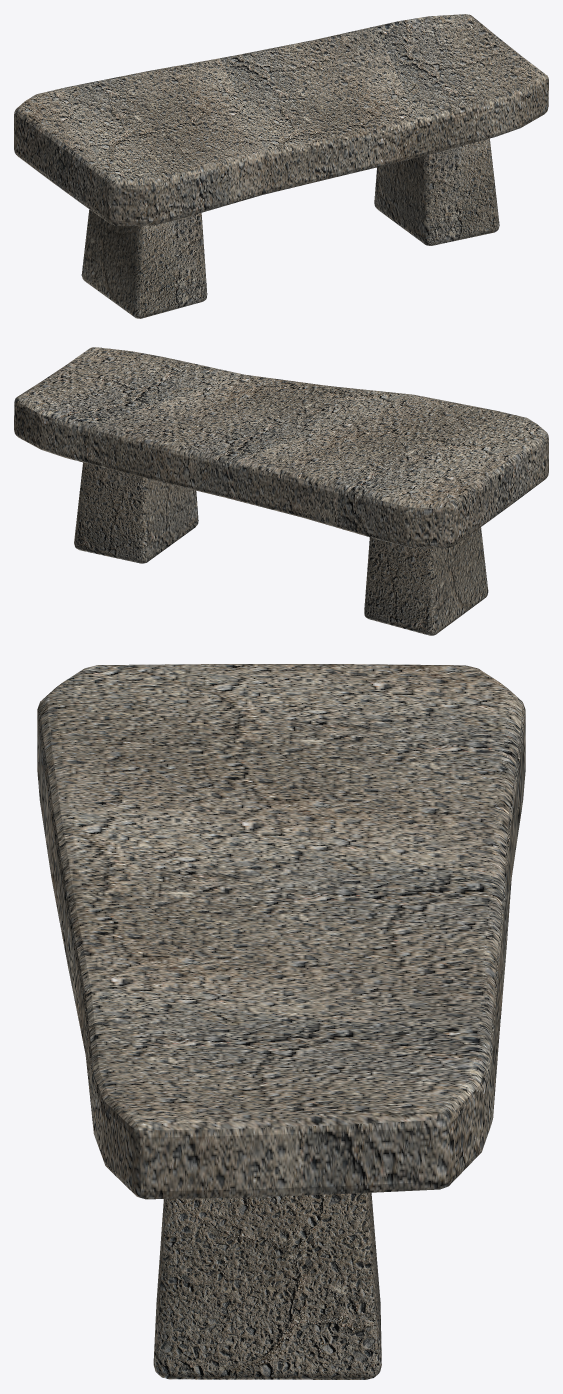
File: bench.fbx
3 views of the same model, one above another, from view 1: azimuth 30°, elevation 25°; view 2: azimuth 150°, elevation 25°; view 3: azimuth 270°, elevation 25° (orthographic). The views are drawn at different scales.
Visible parts, largest first — view 1: 立方体.001, 立方体.004; view 2: 立方体.001, 立方体.004; view 3: 立方体.001, 立方体.004.
Part boxes in pixels (box(x1,y1,x2,y2)): 立方体.001: box(14, 14, 548, 226); 立方体.004: box(81, 138, 499, 318); 立方体.001: box(14, 347, 548, 548); 立方体.004: box(74, 462, 488, 635); 立方体.001: box(37, 664, 525, 1199); 立方体.004: box(153, 1192, 381, 1379).
Bounding box in the file's own units: 85.94 × 30.16 × 40.42.
2 materials, 2 textured.
